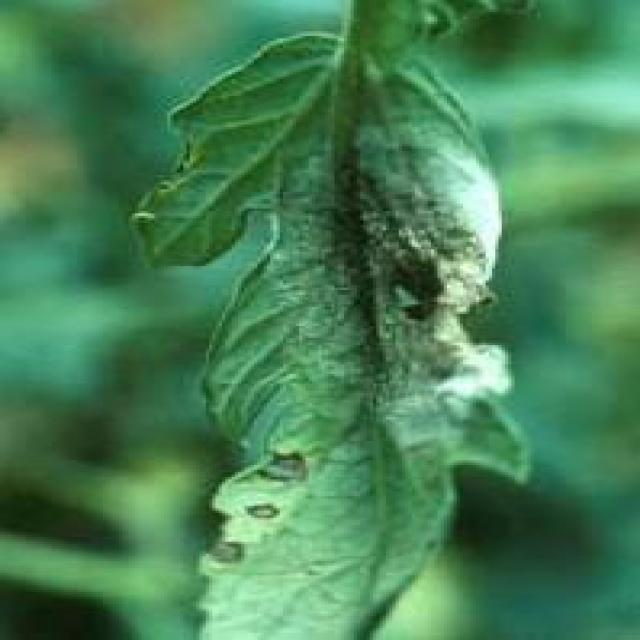unhealthy: (132, 0, 527, 639)
